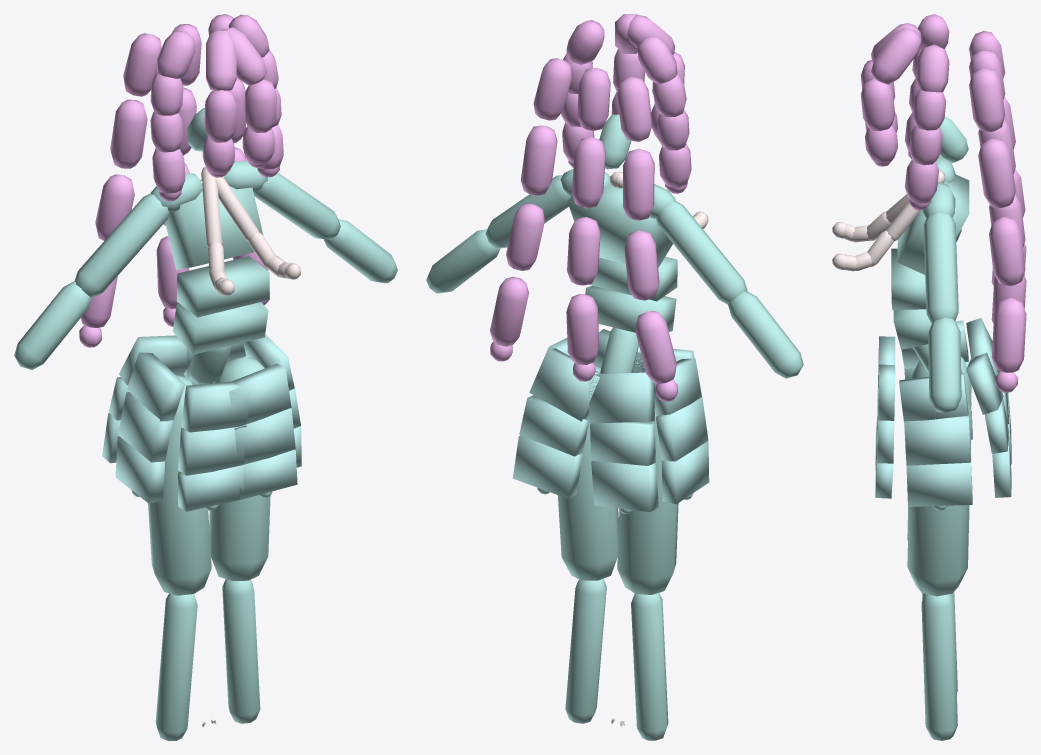
File: ribbon.fbx
3 views of the same model, side by side, from view 1: azimuth 30°, elevation 25°; view 2: azimuth 150°, elevation 25°; view 3: azimuth 270°, elevation 25° (orthographic). The views are drawn at different scales.
Parts seen in each view (by area): view 1: 00D_右足, 00B_左足, 00E_右ひざ, 00C_左ひざ, 003_上半身３, 009_右腕, 002_上半身２, 001_上半身, 00A_右ひじ, 020_右ス前１, 006_左腕, 021_右ス前２ (+34 smaller); view 2: 00D_右足, 00B_左足, 00E_右ひざ, 00C_左ひざ, 009_右腕, 003_上半身３, 01S_右ス後１, 00A_右ひじ, 01U_右ス後３, 01Q_左ス後３, 01O_左ス後１, 01T_右ス後２ (+31 smaller); view 3: 00B_左足, 00C_左ひざ, 006_左腕, 029_左ス横２, 007_左ひじ, 02A_左ス横３, 00X_左髪後４, 003_上半身３, 00V_左髪後２, 00W_左髪後３, 00U_左髪後１, 028_左ス横１ (+32 smaller).
Boxes of the visible parts, x1,y1,x2,y2 form: 00D_右足: (148, 374, 211, 595); 00B_左足: (209, 357, 270, 581); 00E_右ひざ: (155, 593, 197, 740); 00C_左ひざ: (222, 579, 260, 723); 003_上半身３: (165, 176, 263, 269); 009_右腕: (74, 193, 170, 298); 002_上半身２: (176, 256, 269, 317); 001_上半身: (172, 302, 268, 354); 00A_右ひじ: (14, 281, 91, 369); 020_右ス前１: (181, 381, 250, 432); 006_左腕: (253, 172, 340, 239); 021_右ス前２: (178, 426, 244, 475); 00D_右足: (617, 408, 678, 594); 00B_左足: (557, 366, 618, 580); 00E_右ひざ: (631, 593, 668, 740); 00C_左ひざ: (565, 578, 606, 723); 009_右腕: (656, 201, 747, 304); 003_上半身３: (567, 178, 672, 267); 01S_右ス後１: (588, 372, 654, 423); 00A_右ひじ: (728, 291, 803, 378); 01U_右ス後３: (591, 460, 658, 512); 01Q_左ス後３: (512, 435, 582, 498); 01O_左ス後１: (529, 348, 601, 421); 01T_右ス後２: (590, 422, 655, 465); 00B_左足: (907, 404, 971, 596); 00C_左ひざ: (921, 594, 957, 740); 006_左腕: (923, 212, 958, 323); 029_左ス横２: (904, 414, 970, 465); 007_左ひじ: (928, 317, 961, 412); 02A_左ス横３: (906, 459, 972, 506); 00X_左髪後４: (991, 297, 1026, 372); 003_上半身３: (897, 174, 969, 274); 00V_左髪後２: (978, 139, 1015, 208); 00W_左髪後３: (989, 217, 1025, 286); 00U_左髪後１: (969, 68, 1005, 132); 028_左ス横１: (899, 373, 968, 422).
Bounding box in the file's own units: 1056 × 1902 × 481.
